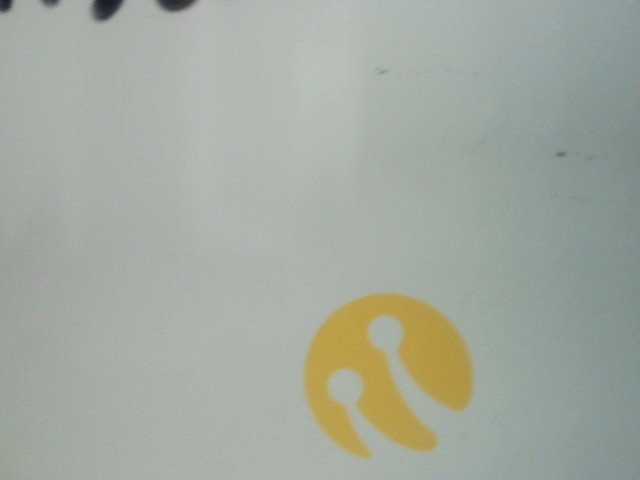AV_H3600Yellow: (273, 281, 481, 460)
